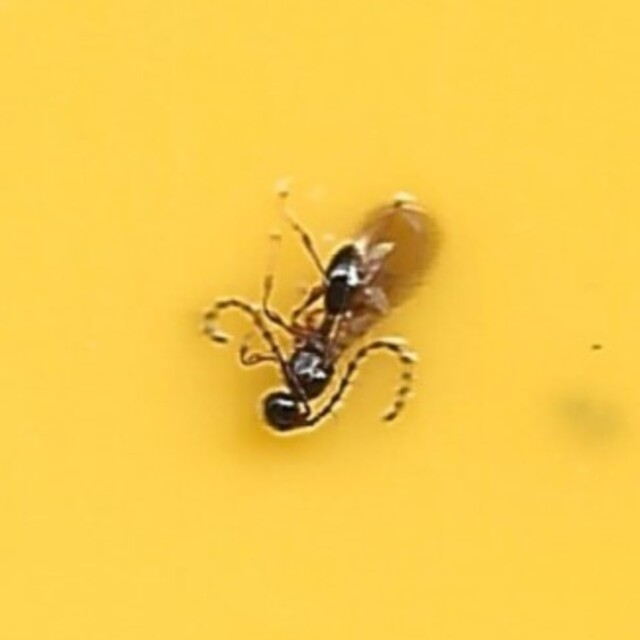Hymenoptera: (196, 193, 444, 447)
